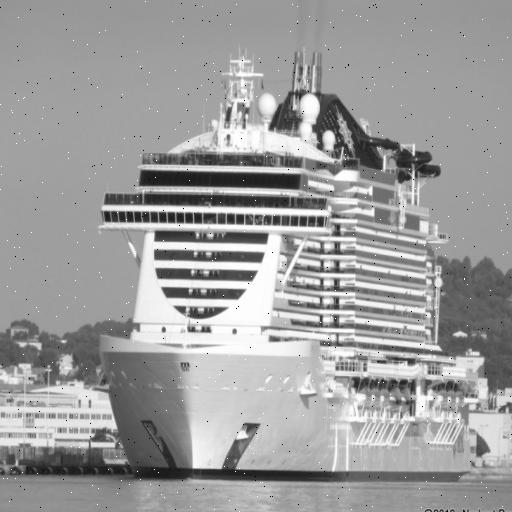cruises: (95, 40, 475, 487)
